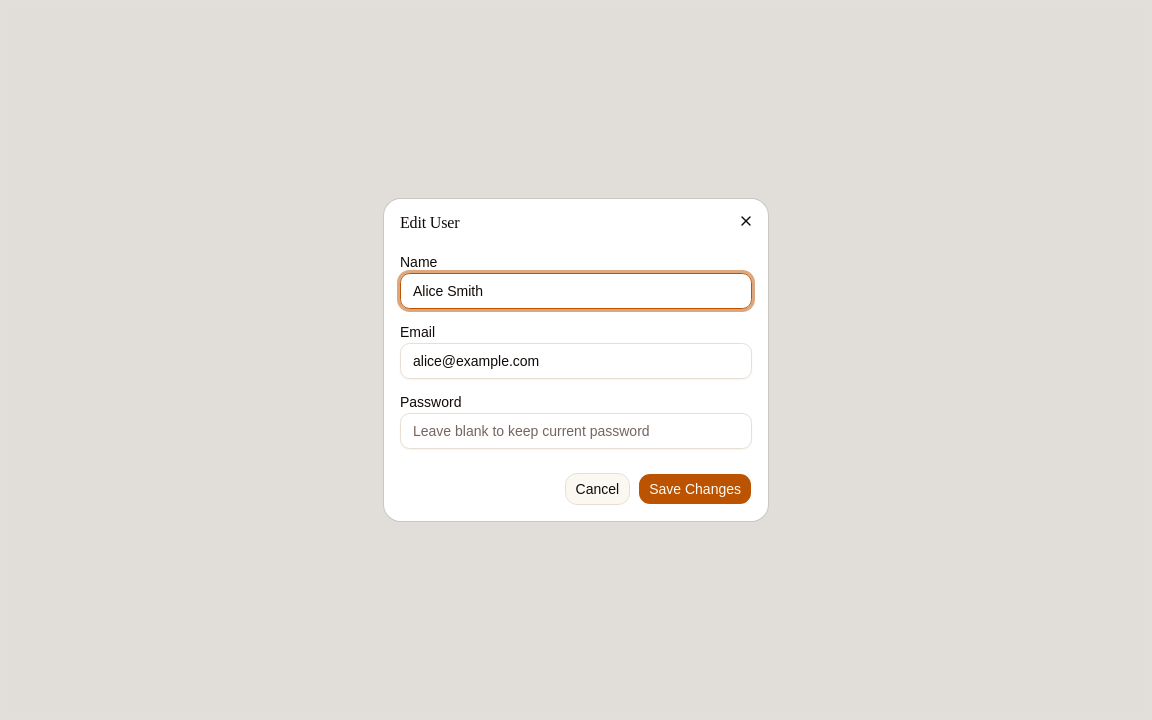
Test: EditUserDialog › shows email error when email is invalid
Replace the text in the field labelled "Email" with "not-an-email" at (576, 361), box [400, 343, 752, 379]
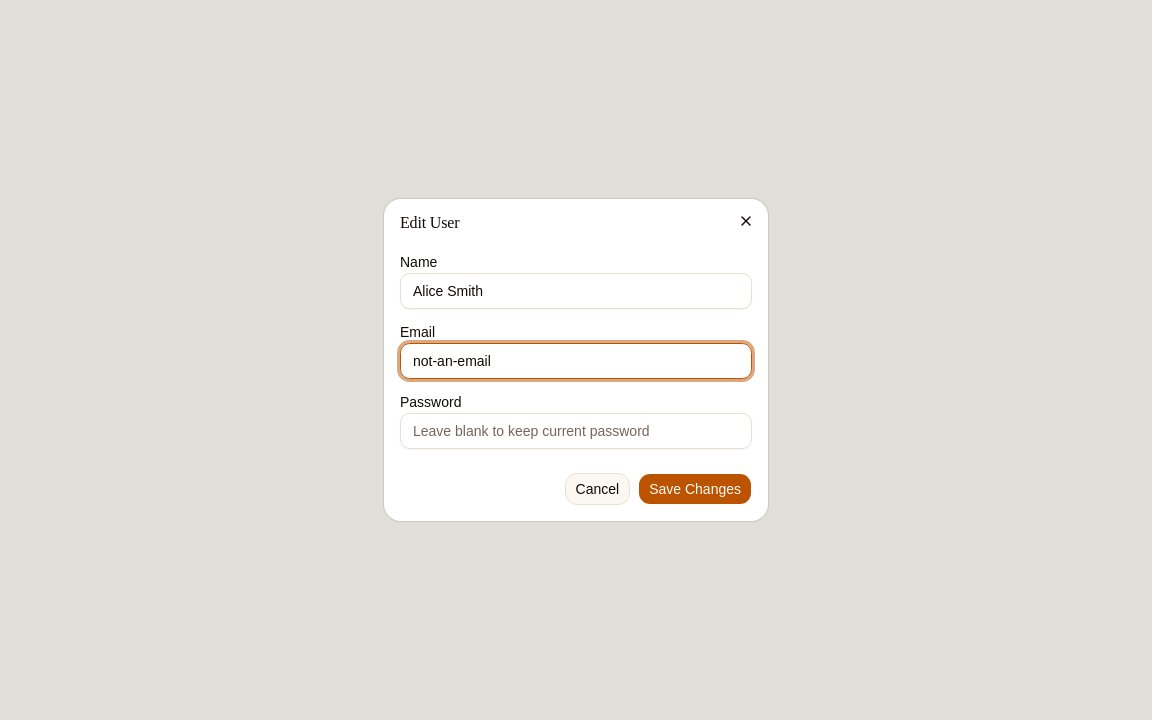
Click the button "Save Changes" at (695, 489), box [638, 473, 752, 505]
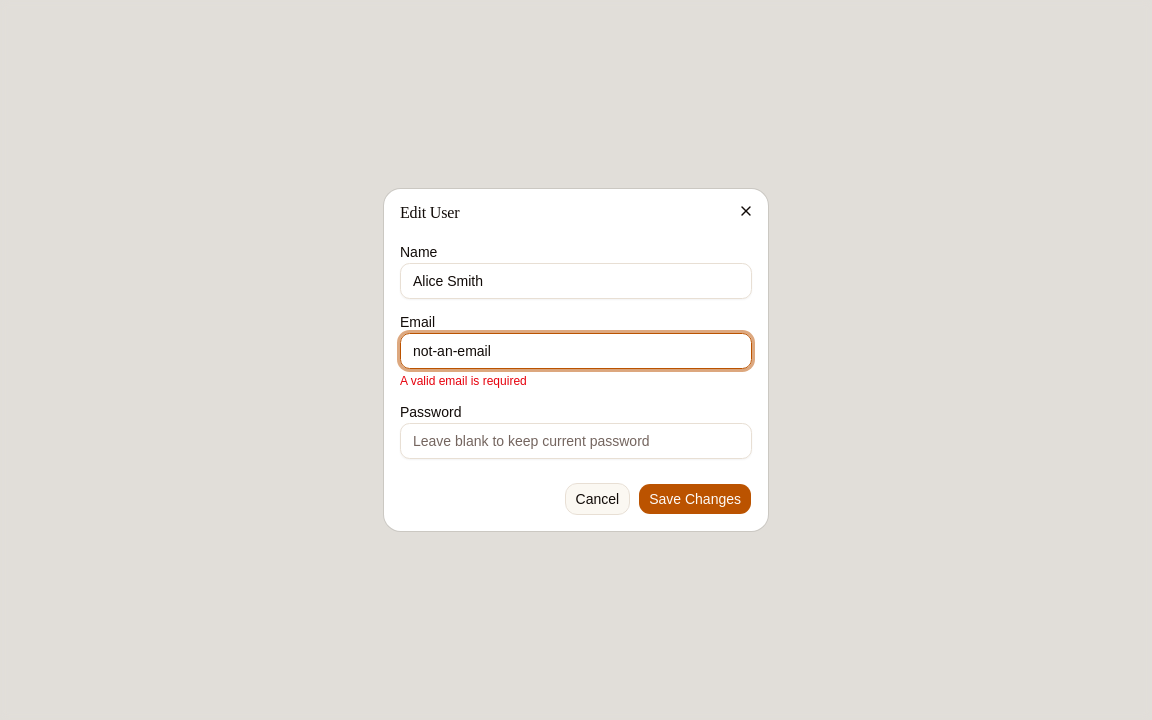
Expected: the text "A valid email is required" is shown, [400, 374, 527, 388]
